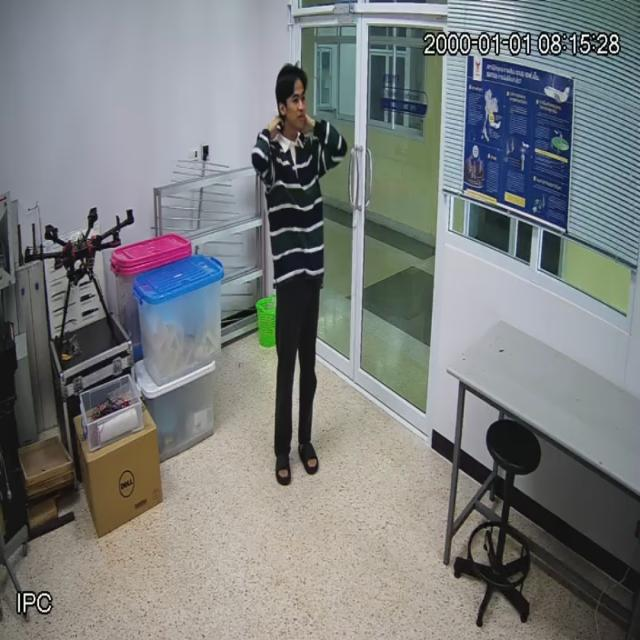normal: (254, 62, 346, 478)
